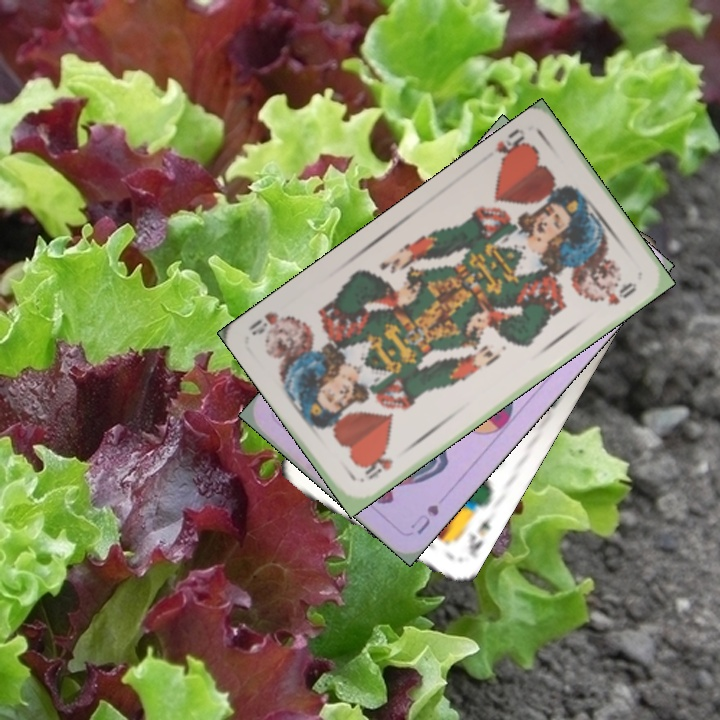EK: (463, 509, 495, 557)
HO: (491, 124, 534, 172), (360, 448, 396, 483)
SU: (406, 500, 442, 538)
